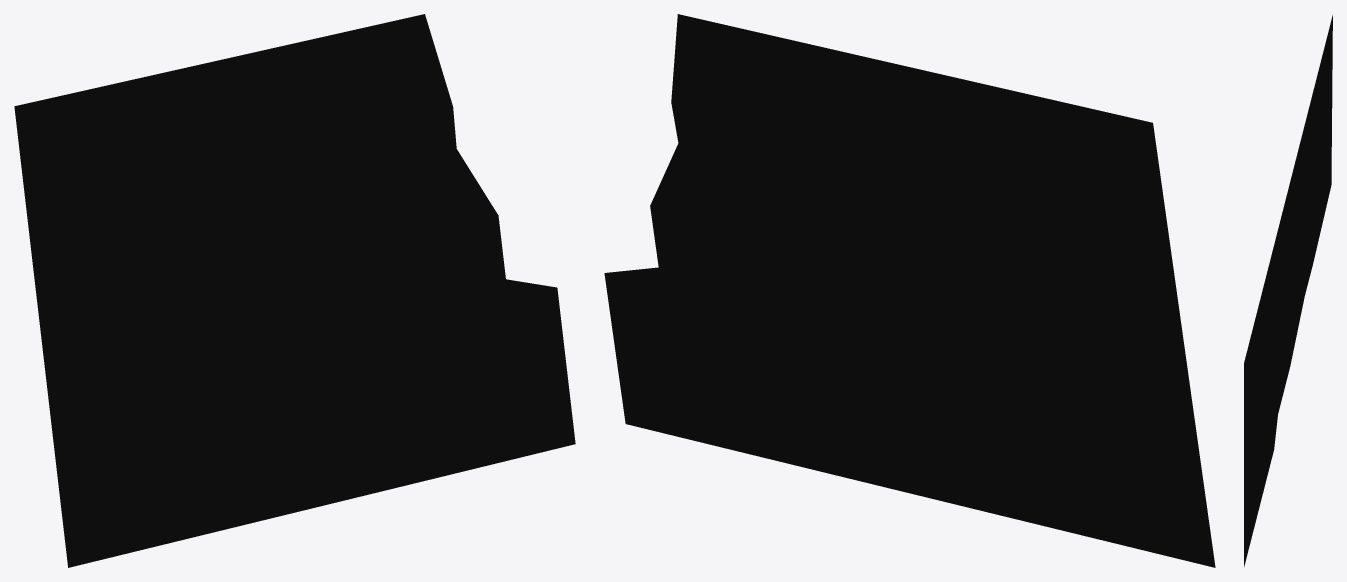
The picture shows the model from 3 angles, left to right: view 1: azimuth 30°, elevation 25°; view 2: azimuth 150°, elevation 25°; view 3: azimuth 270°, elevation 25°; orthographic projection. The views are drawn at different scales.
Parts seen in each view (by area): view 1: 4; view 2: 4; view 3: 4.
Boxes of the visible parts, left/top/right/bottom form: 4: left=14, top=14, right=575, bottom=567; 4: left=604, top=14, right=1215, bottom=567; 4: left=1244, top=15, right=1332, bottom=566.
Bounding box in the file's own units: 6581 × 5233 × 1208.
1 material, 1 textured.
